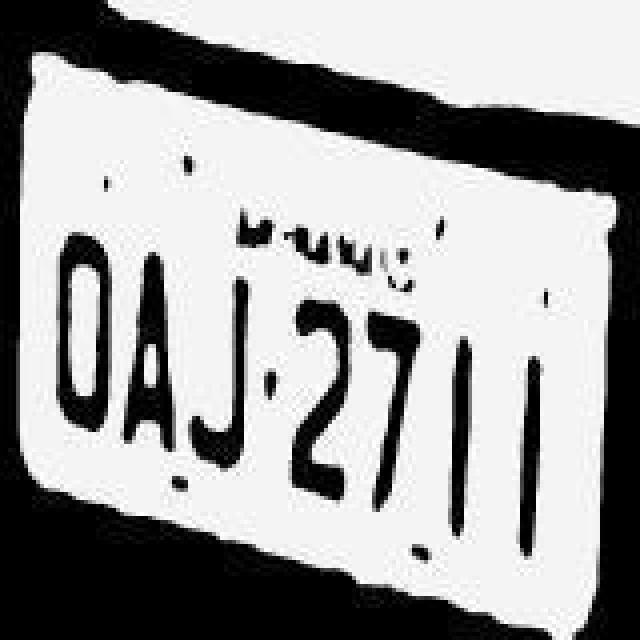1: (430, 292, 482, 540), (502, 336, 554, 584)
2: (284, 282, 356, 534)
7: (362, 294, 422, 530)
A: (118, 218, 186, 470)
J: (186, 250, 262, 478)
O: (38, 200, 114, 456)
